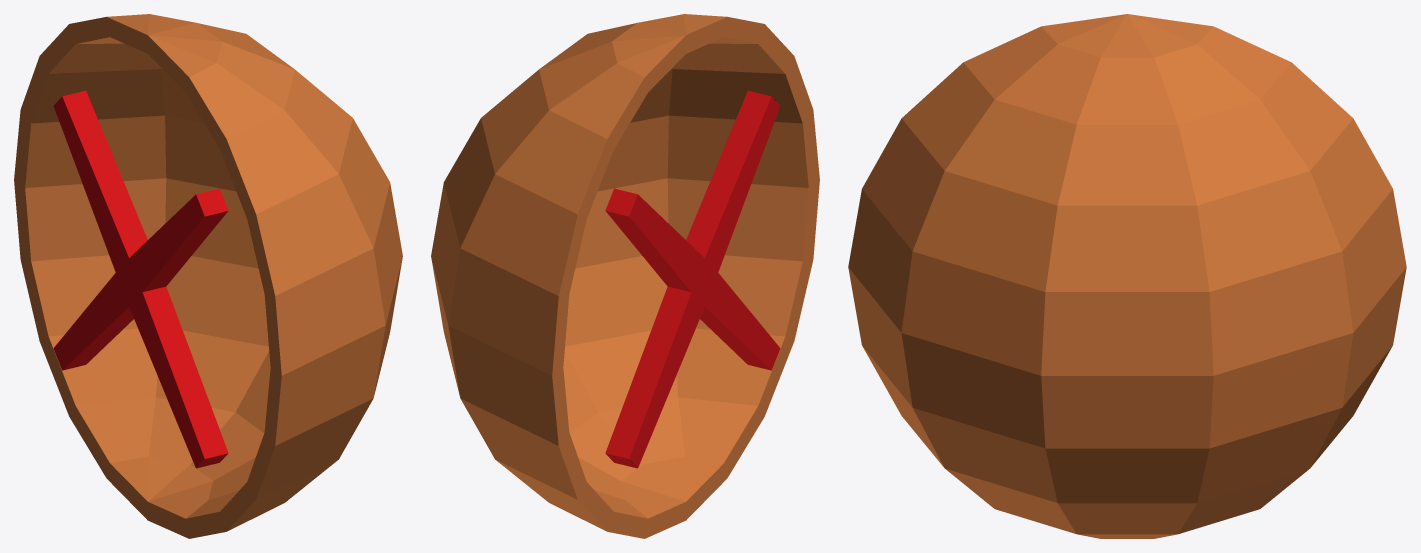
Rendered from CrossError.fbx.
3 views of the same model, side by side, from view 1: azimuth 30°, elevation 25°; view 2: azimuth 150°, elevation 25°; view 3: azimuth 270°, elevation 25° (orthographic). The views are drawn at different scales.
Visible parts, largest first — view 1: Cross; view 2: Cross; view 3: Cross.
Part boxes in pixels (box(x1,y1,x2,y2)): Cross: box(14, 14, 402, 538); Cross: box(431, 14, 819, 538); Cross: box(848, 14, 1406, 538).
Size of the model in its own units: 100 by 200 by 200.
1 material, 1 textured.
